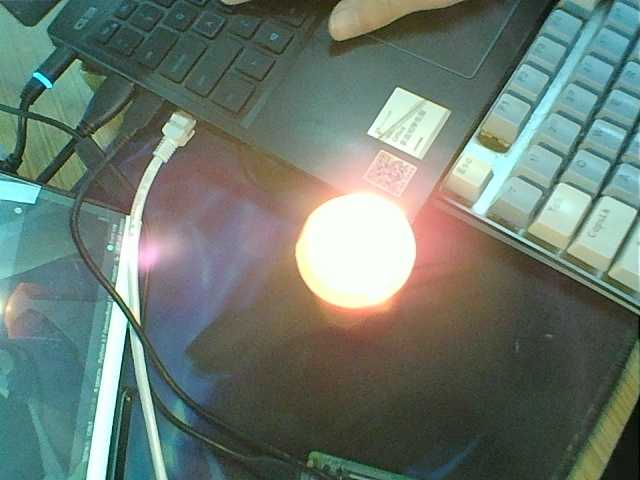candle: (308, 313, 386, 350)
fire: (312, 201, 411, 295)
